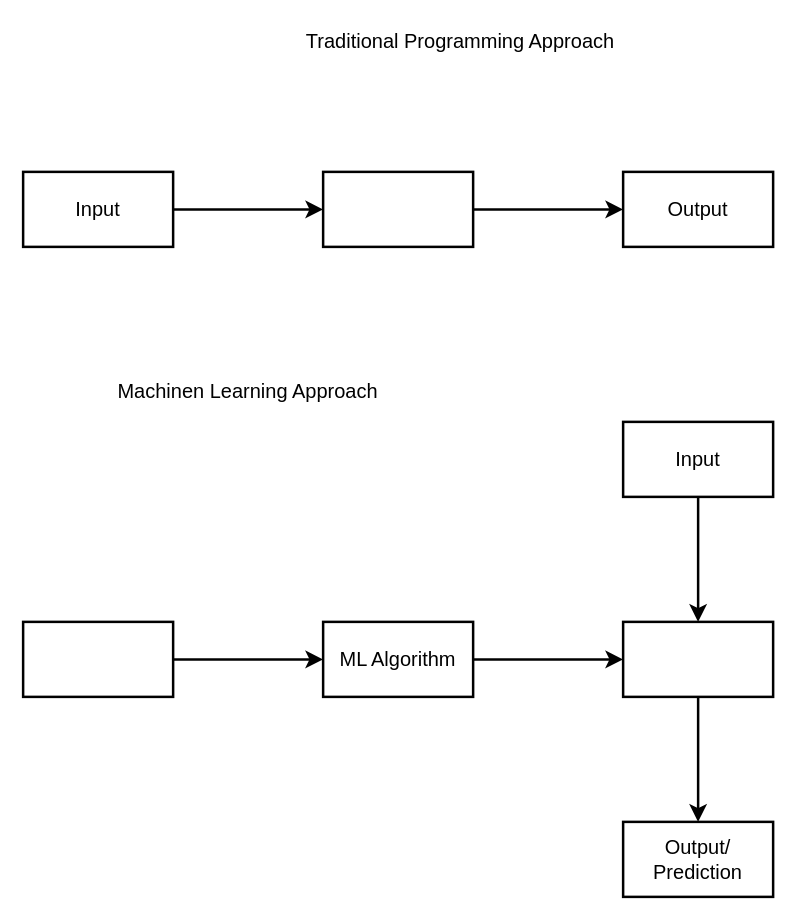
Image size: 795x919. Some labels were removed from this diagram. Here are the shapes that lost their labels. From the top down, the centre of each, then its label:
At pixel 397 209: "Program".
At pixel 97 659: "Dataset".
At pixel 697 659: "Program/ ML Model".
